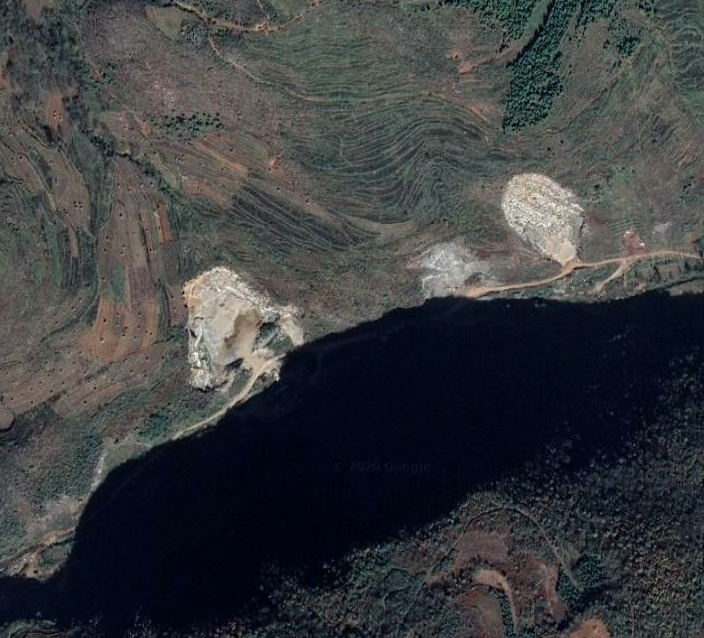slope: (174, 261, 310, 399), (498, 170, 588, 268), (406, 234, 498, 312), (619, 227, 647, 258)
